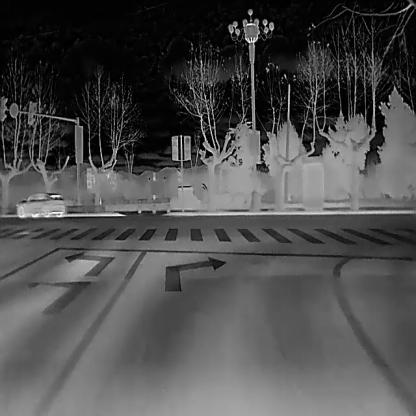car: (15, 192, 64, 219)
